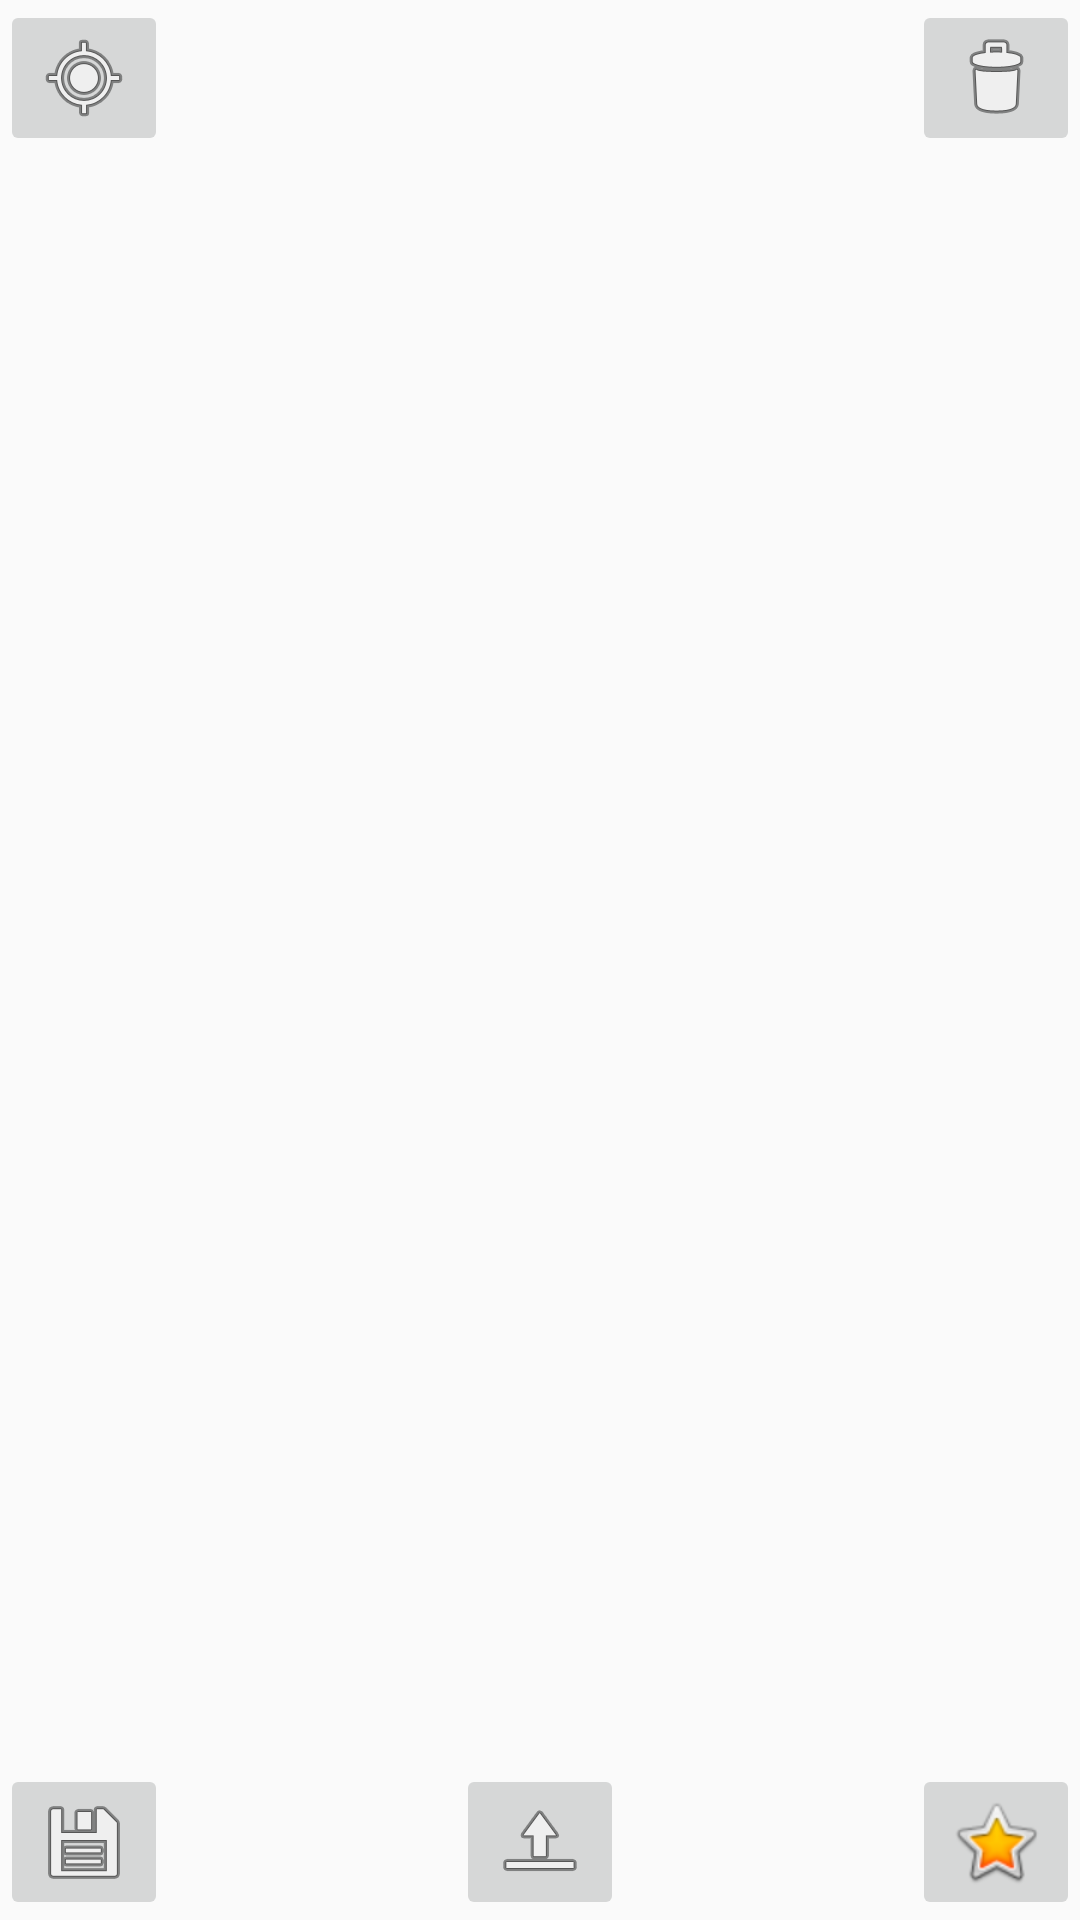

Where to tap for icons on this 1080px×1920px app screen, as point (x, y):
delete: point (996, 78)
mylocation: point (84, 78)
save: point (84, 1842)
star on: point (996, 1842)
